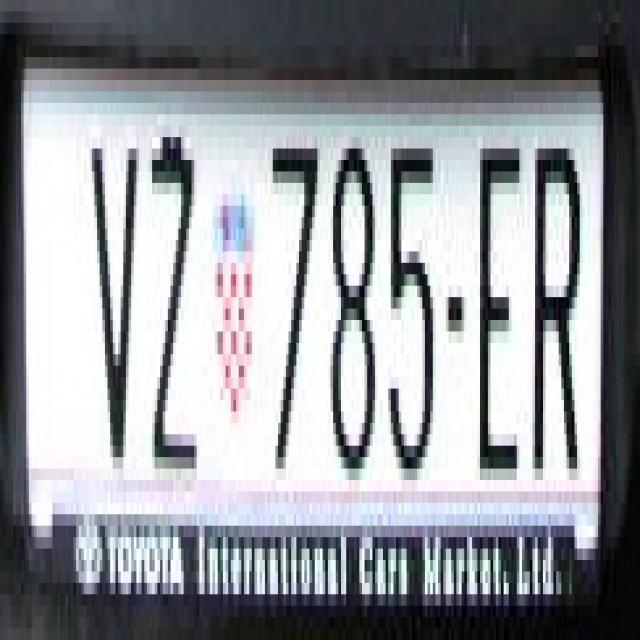5: (386, 103, 438, 480)
7: (265, 114, 315, 492)
8: (326, 126, 372, 468)
E: (475, 103, 522, 480)
V: (92, 126, 136, 468)
Z: (150, 137, 194, 480)
